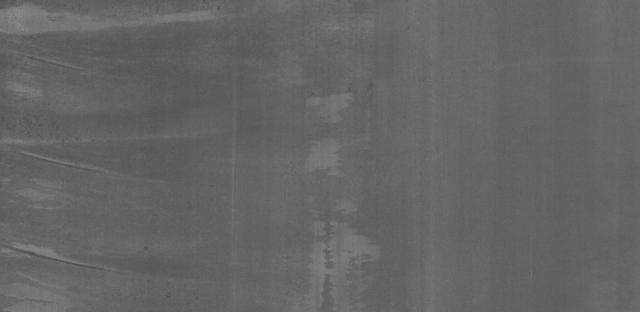crease: (0, 24, 109, 80), (0, 232, 116, 277), (0, 146, 105, 194)
